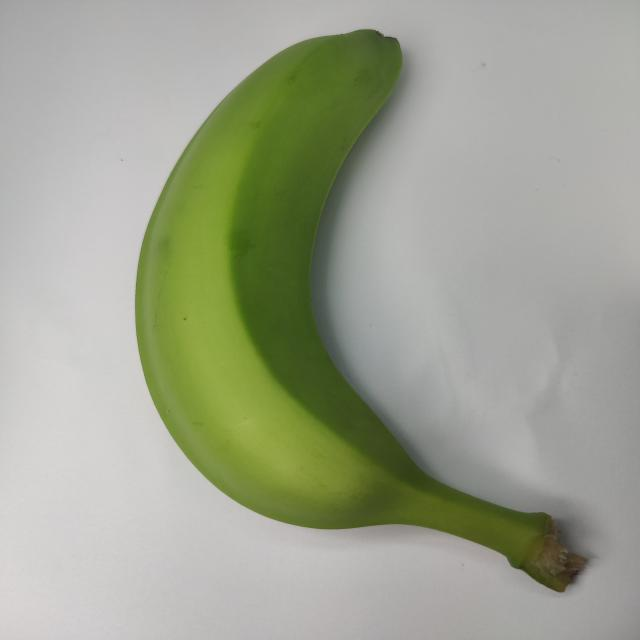raw: (102, 18, 622, 603)
